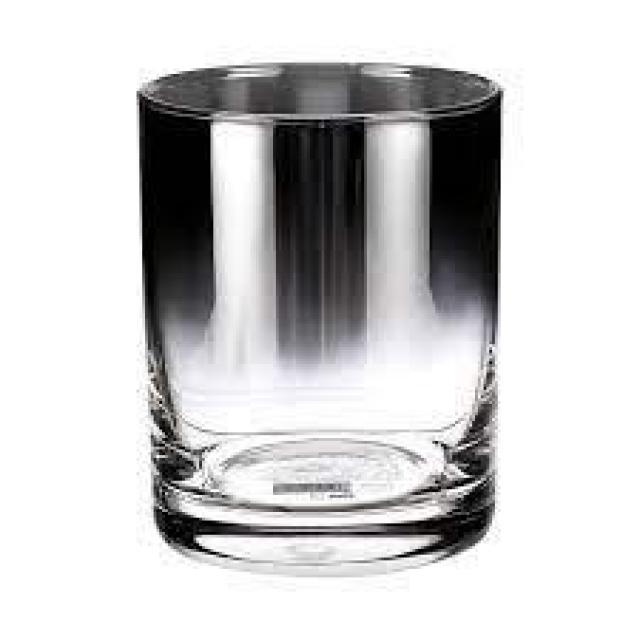non-organic waste: (132, 58, 505, 573)
